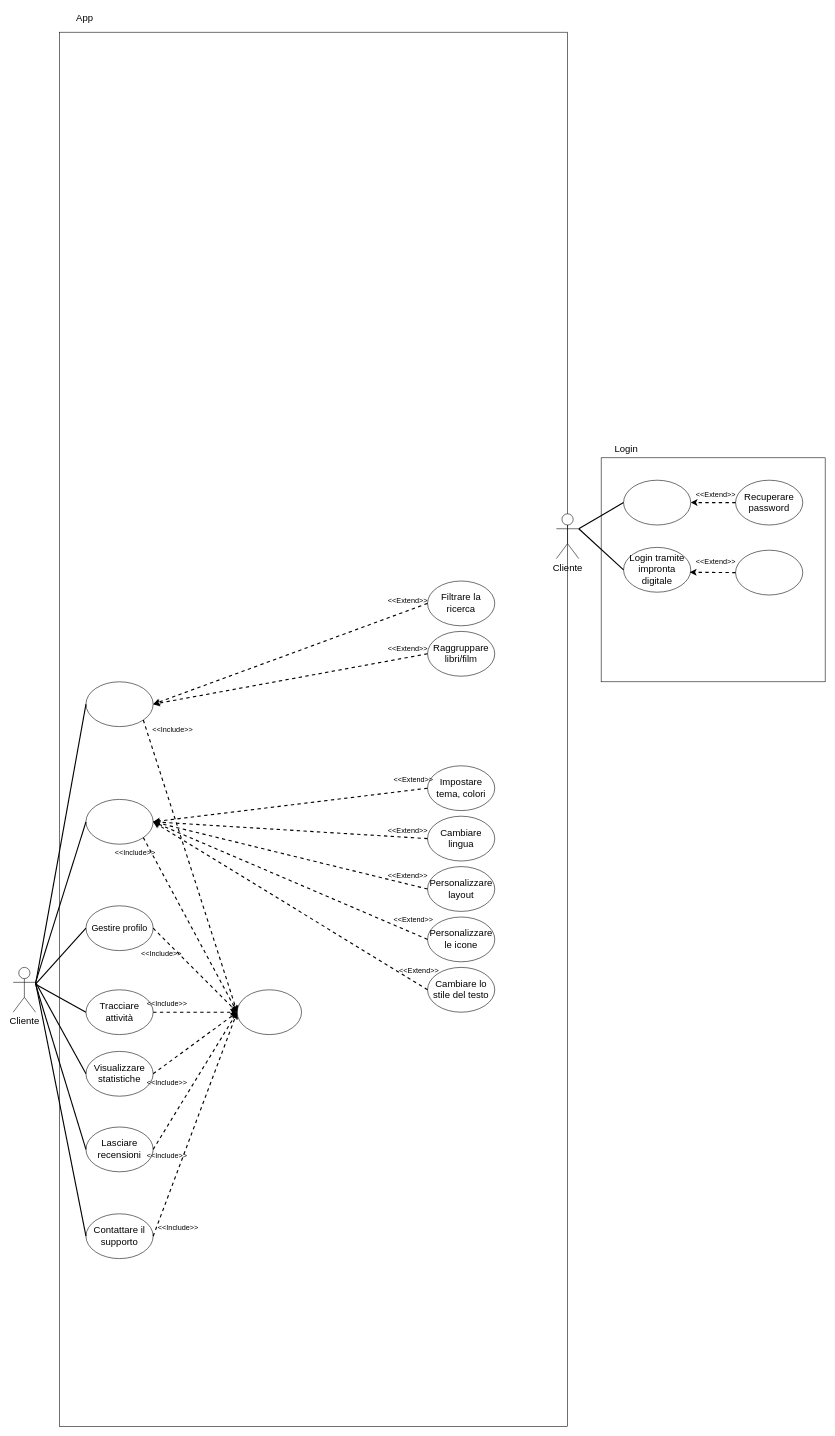
Image size: 835x1436. Some labels were removed from this diagram. Here are the shapes that lost their labels. From the top down, the centre of each, then its label:
At point (657, 502): "Login tramite password".
At point (769, 572): "Recuperare impronta digitale".
At point (119, 704): "Ricerca libri/film".
At point (119, 821): "Gestire impostazioni".
At point (269, 1012): "Login*".
